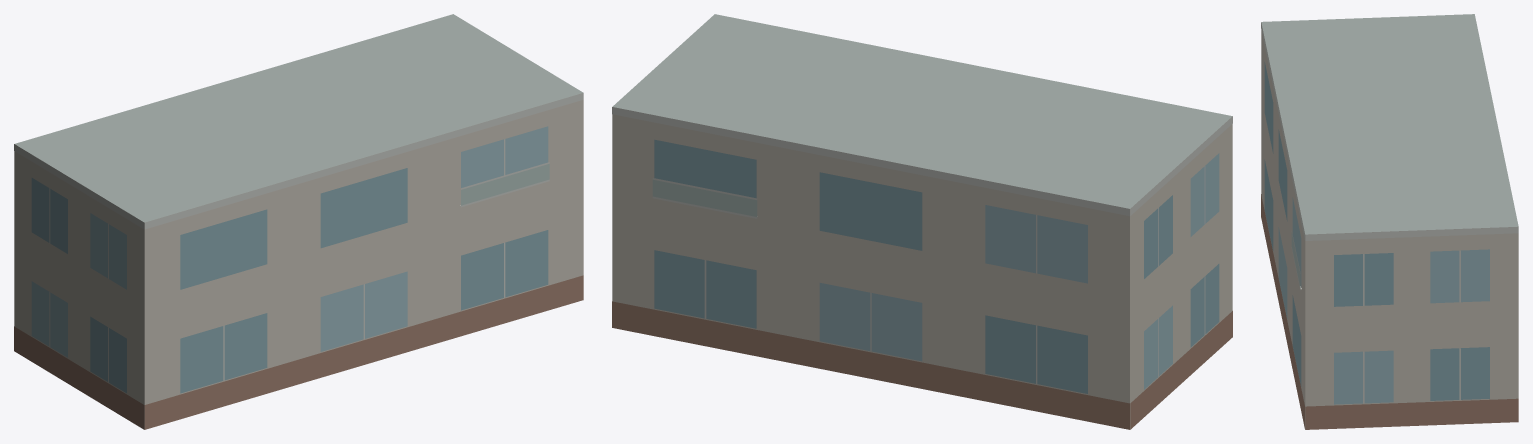
Rendered from survey-upis-32611750.glb.
3 renders of one model, left to right at view 1: azimuth 30°, elevation 25°; view 2: azimuth 150°, elevation 25°; view 3: azimuth 270°, elevation 25°, orthographic. The views are drawn at different scales.
Visible parts, largest first — view 1: survey-upis-32611750.tmp; view 2: survey-upis-32611750.tmp; view 3: survey-upis-32611750.tmp.
Boxes of the visible parts, x1,y1,x2,y2 form: survey-upis-32611750.tmp: (14,14,583,429); survey-upis-32611750.tmp: (612,14,1232,429); survey-upis-32611750.tmp: (1261,14,1518,429).
Bounding box in the file's own units: 17.69 × 7.3 × 8.73.
